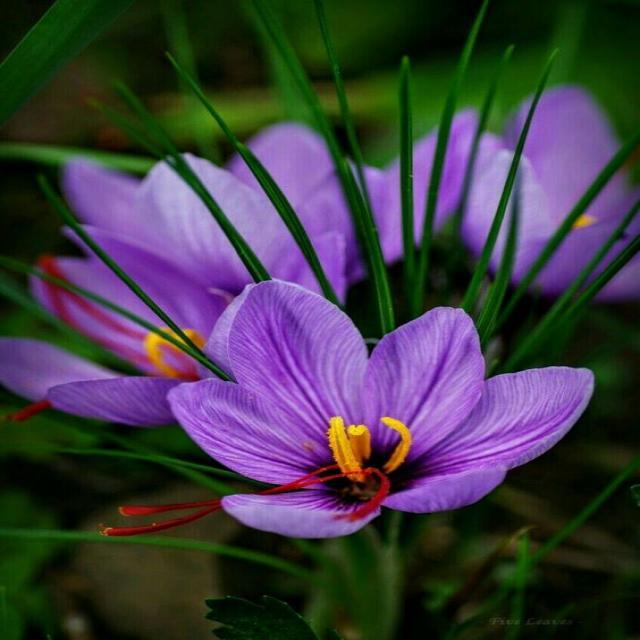Flower: (168, 282, 593, 538)
stigma: (103, 474, 338, 541), (114, 474, 346, 521), (38, 254, 149, 340), (325, 465, 392, 526), (6, 398, 52, 428)
